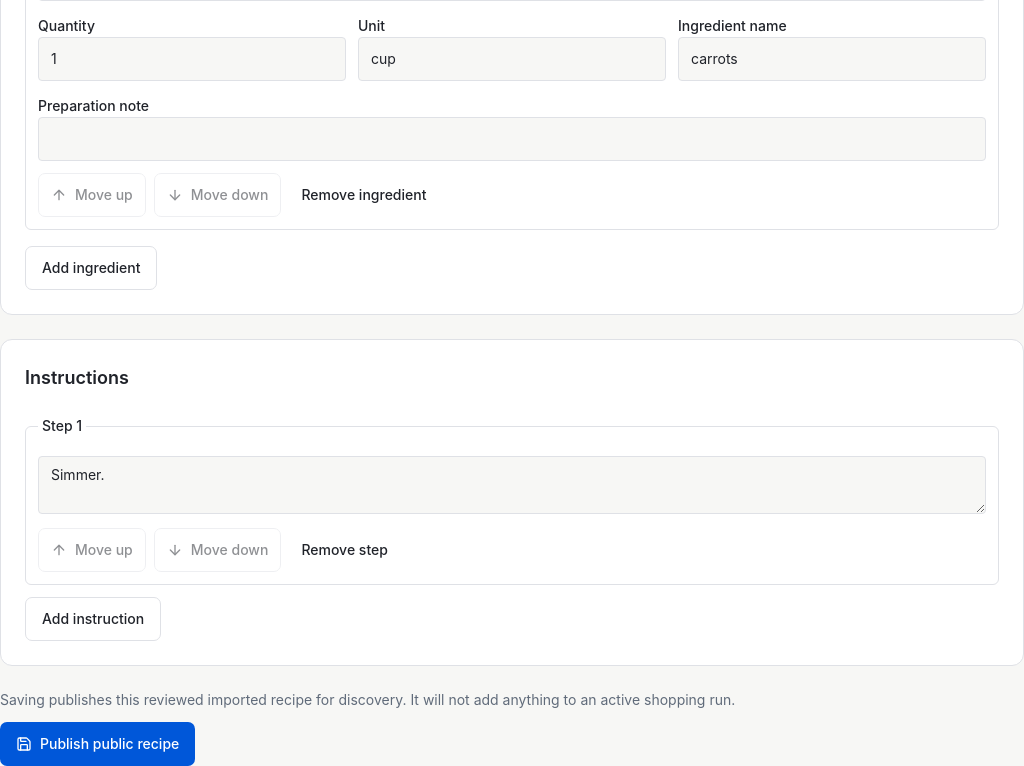
Test: RecipeImportPreview › links to an existing public recipe when the save is a duplicate
(page scrolled)
Step 1. Click the button "Publish public recipe" → (98, 744), box [0,722,195,765]
(page scrolled)
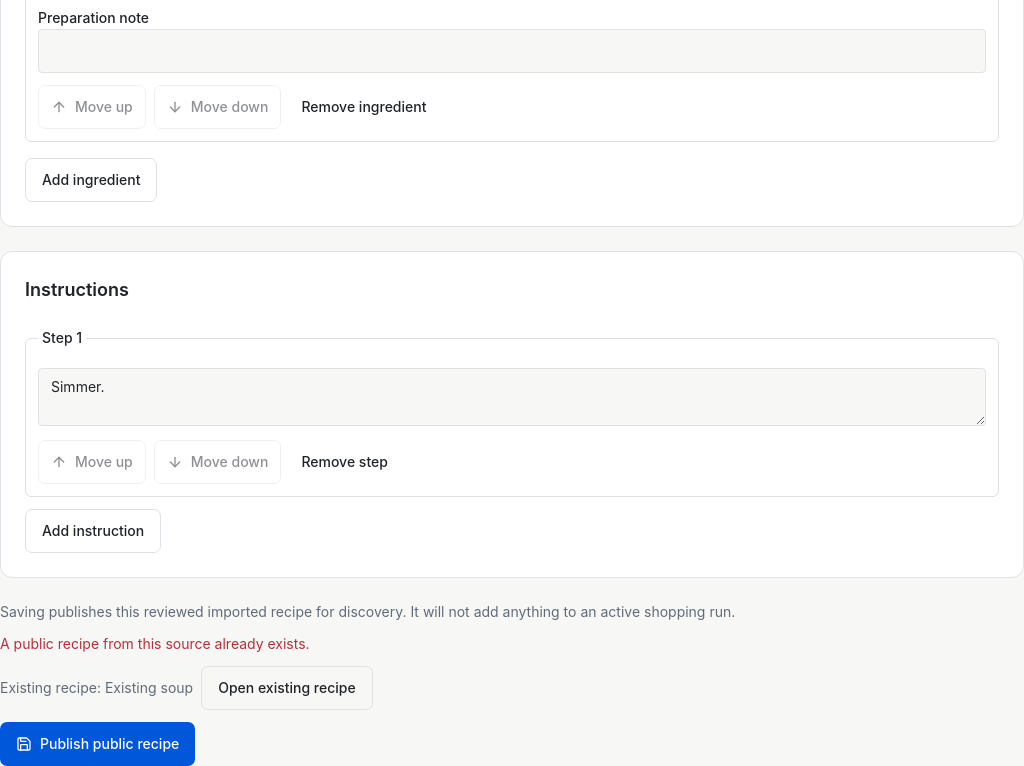
expect the message shows "public recipe from this source already exists": met, box [0,635,310,652]
